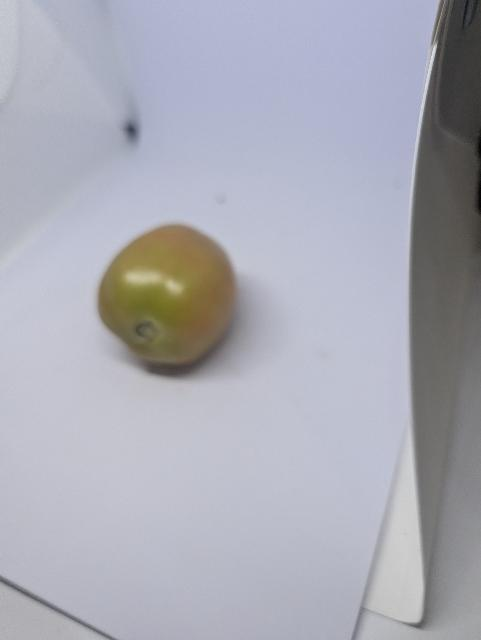breaker: (99, 225, 236, 366)
